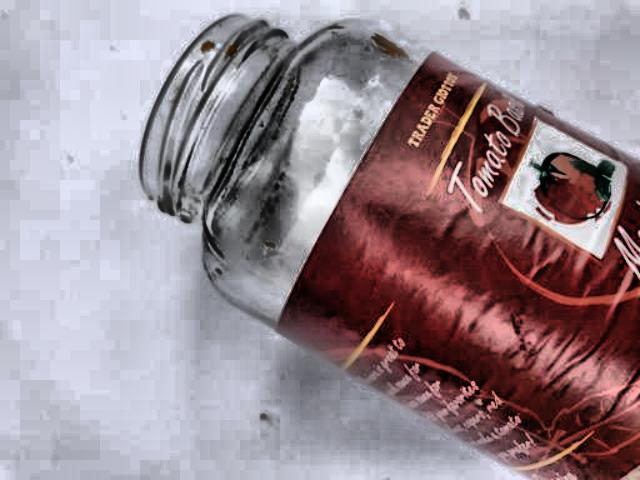Almennt: (130, 8, 640, 480)
